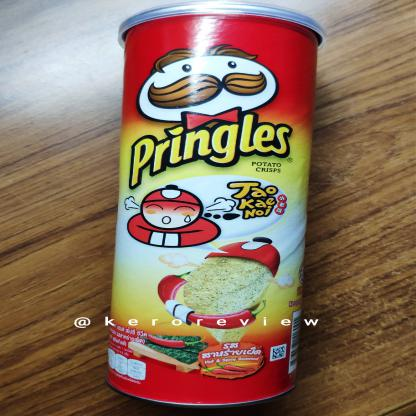potatochip: (96, 1, 323, 410)
